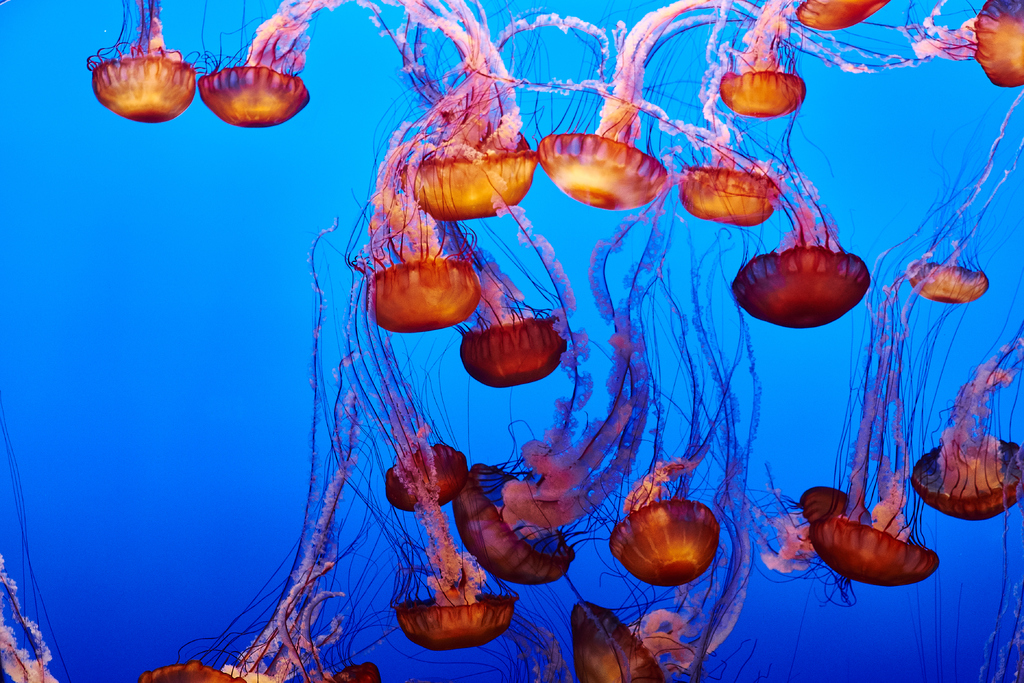Jellyfish: (136, 0, 1023, 682), (193, 0, 341, 133), (83, 0, 205, 121), (737, 225, 874, 332)
